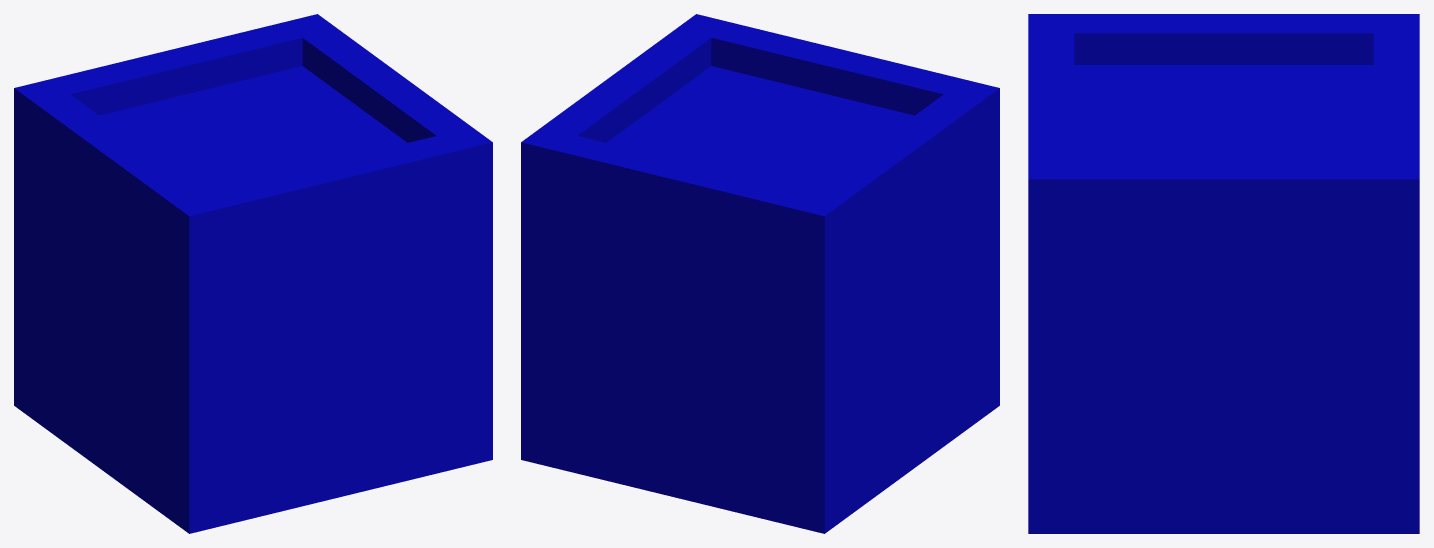
Rendered from blue_cavity.obj.
The picture shows the model from 3 angles, left to right: view 1: azimuth 30°, elevation 25°; view 2: azimuth 150°, elevation 25°; view 3: azimuth 270°, elevation 25°; orthographic projection. The views are drawn at different scales.
Visible parts, largest first — view 1: Cube; view 2: Cube; view 3: Cube.
Part boxes in pixels (<box>): Cube: <box>14,14,492,533</box>; Cube: <box>521,14,999,533</box>; Cube: <box>1028,14,1419,533</box>.
Bounding box in the file's own units: 2 × 2 × 2.
